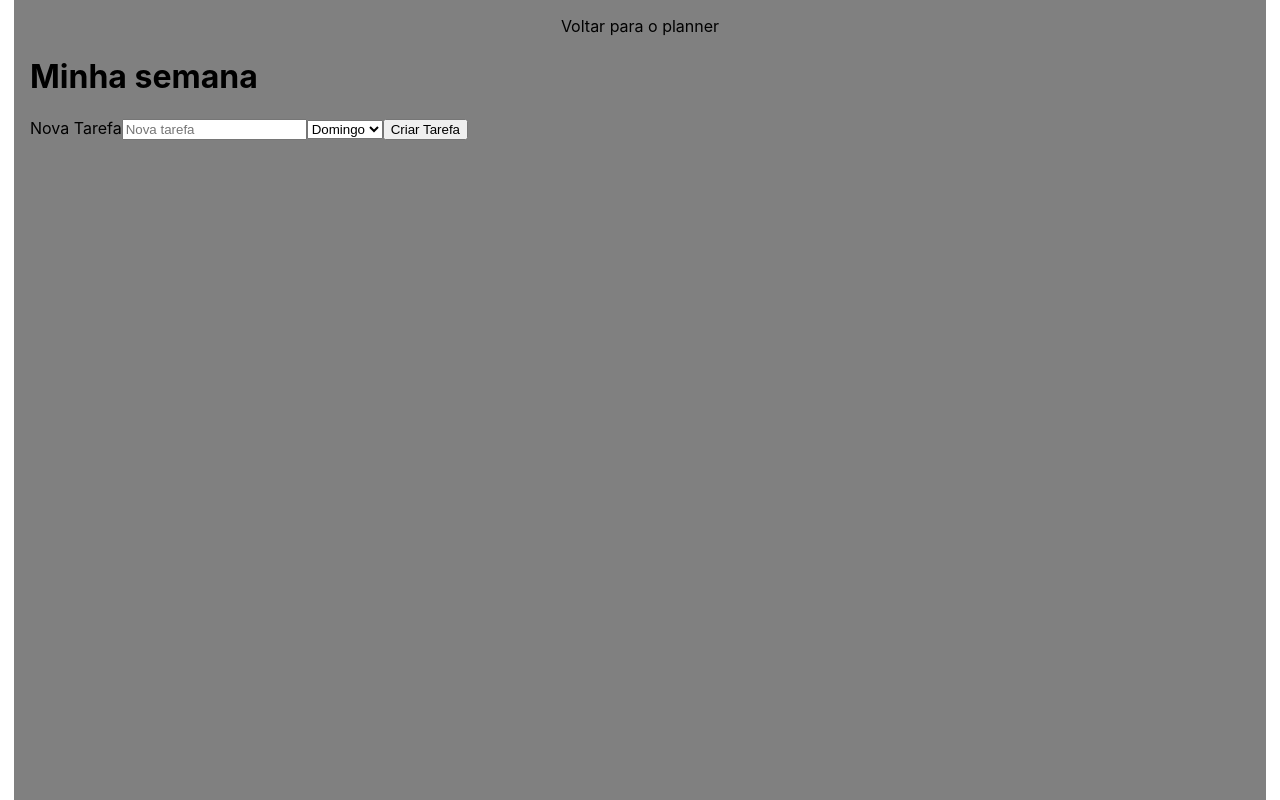
Test: Planner › Voltar para página de Tarefas
Click the text "Voltar para o planner".
click(640, 26)  # box x1=561 y1=16 x2=719 y2=36
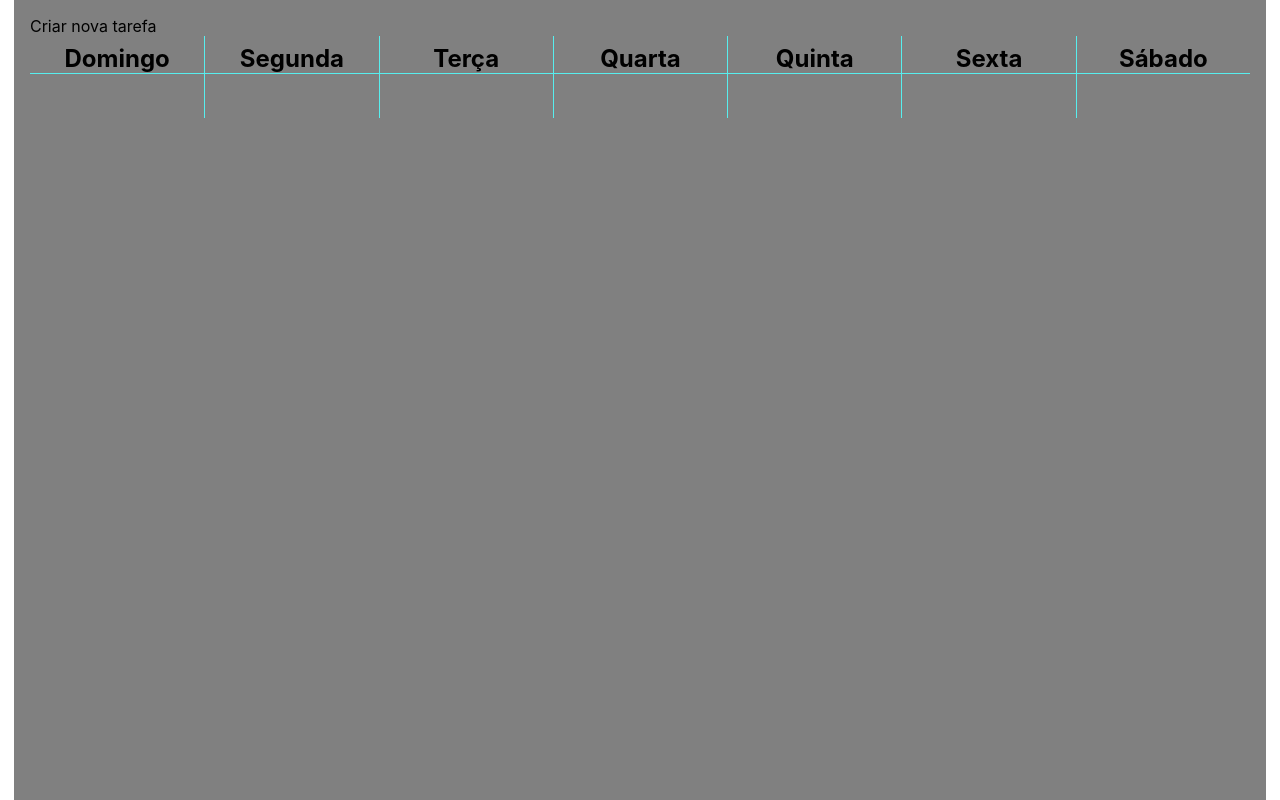
Now the text "Criar nova tarefa" is shown, box x1=30 y1=16 x2=156 y2=36
